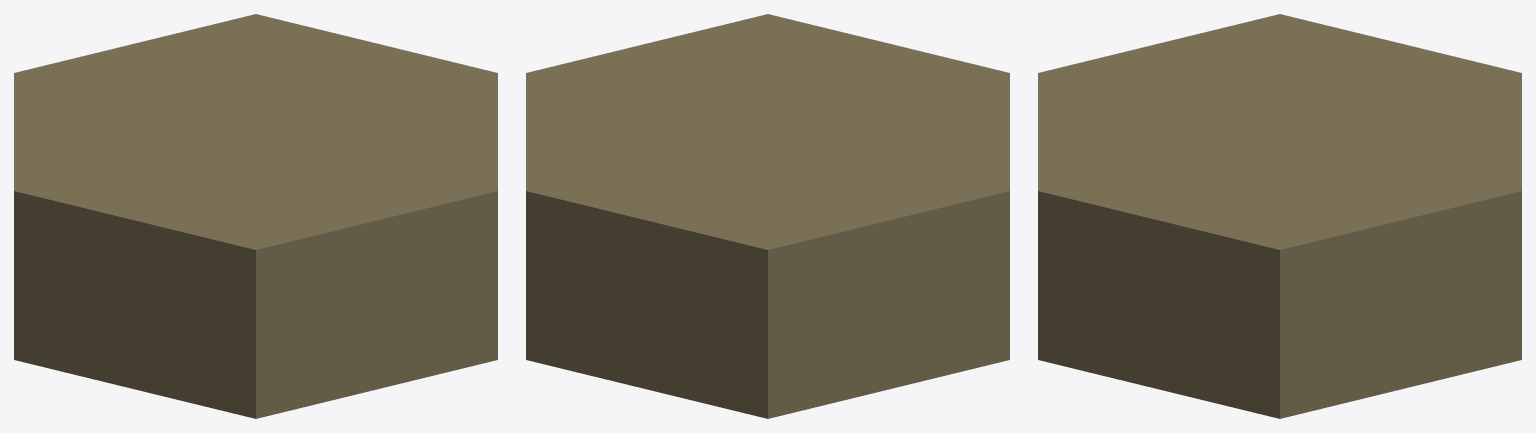
The picture shows the model from 3 angles, left to right: view 1: azimuth 30°, elevation 25°; view 2: azimuth 150°, elevation 25°; view 3: azimuth 270°, elevation 25°; orthographic projection.
Visible parts, largest first — view 1: solid 2-col; view 2: solid 2-col; view 3: solid 2-col.
Part boxes in pixels (left/top/right/bottom): solid 2-col: left=14, top=14, right=497, bottom=418; solid 2-col: left=526, top=14, right=1009, bottom=418; solid 2-col: left=1038, top=14, right=1521, bottom=418.
Size of the model in its own units: 1.73 by 0.578 by 1.5.
